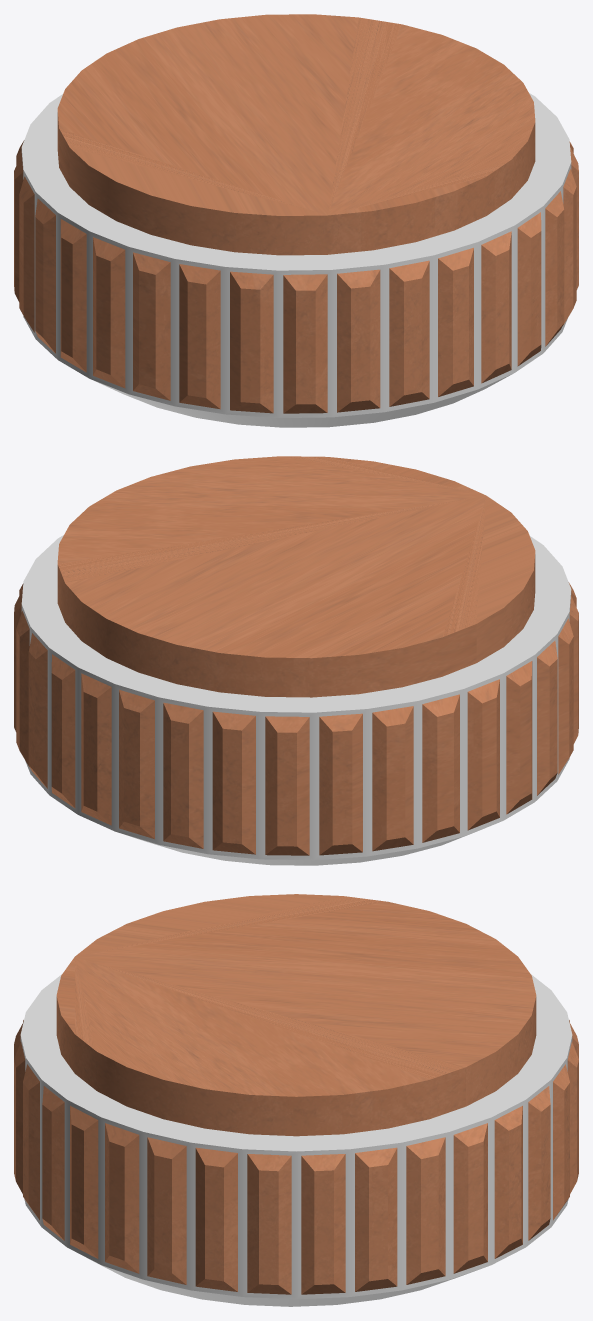
The model's file is Temp_Switch.fbx.
3 views of the same model, one above another, from view 1: azimuth 30°, elevation 25°; view 2: azimuth 150°, elevation 25°; view 3: azimuth 270°, elevation 25° (orthographic).
Visible parts, largest first — view 1: Temp_Switch_01.005; view 2: Temp_Switch_01.005; view 3: Temp_Switch_01.005.
Part boxes in pixels (x1,y1,x2,y2): Temp_Switch_01.005: (14, 14, 578, 427); Temp_Switch_01.005: (14, 456, 578, 865); Temp_Switch_01.005: (14, 894, 578, 1306).
Size of the model in its own units: 5.2 by 2.16 by 5.2.
